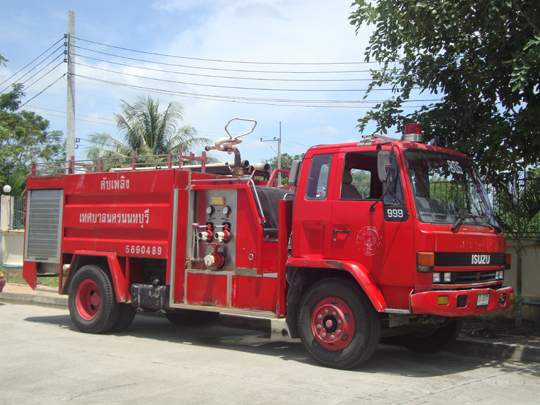truck: (23, 136, 516, 370)
